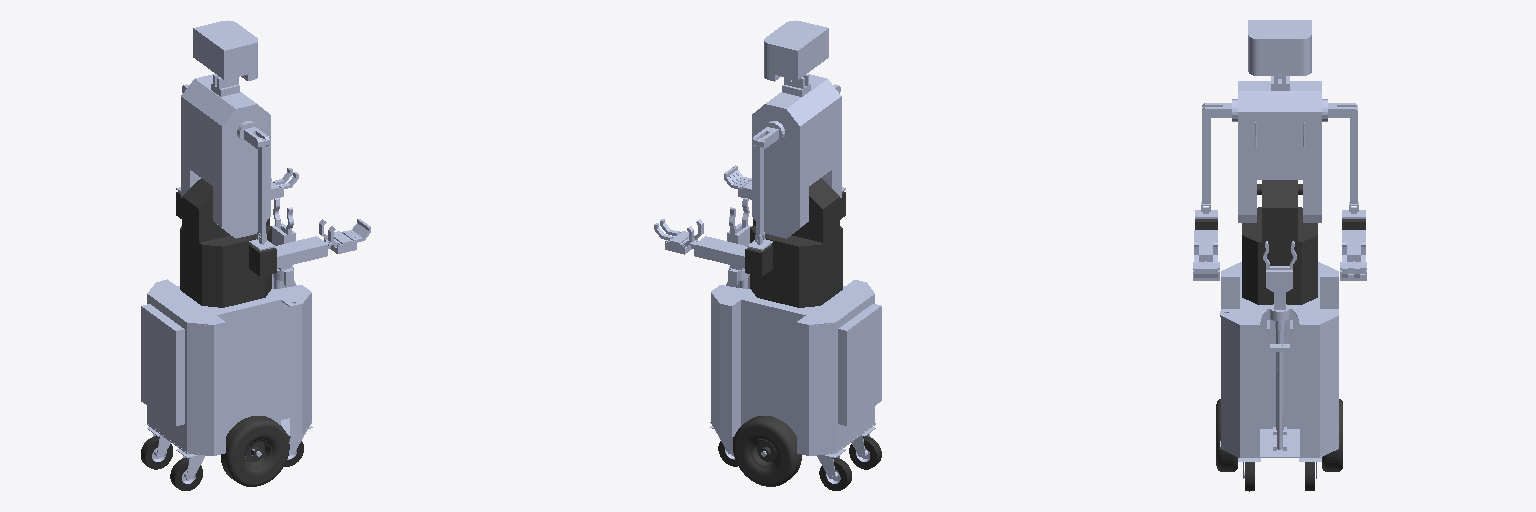
--- Facts derived from the render (not from the file) ---
Views: 3 orthographic renders of the robot side by side, from view 1: azimuth 30°, elevation 25°; view 2: azimuth 150°, elevation 25°; view 3: azimuth 270°, elevation 25°.
Model valter with 46 links and 45 joints (30 revolute, 2 prismatic, 13 fixed), rooted at Base, posed every joint at zero.
Links seen in each view (by area): view 1: Base, Trunk, RTorso, RWheel, Head, Torso, support_wheels, LTorso, RForearmRoll, RArm, RForearmYaw; view 2: Base, Trunk, LTorso, LWheel, Head, Torso, support_wheels, RTorso, LForearmRoll, LArm, LForearmYaw; view 3: Base, Trunk, Torso, Head, LTorso, RTorso, ManipulatorLink2, ManipulatorLink4, RArm, LArm, RWheel, LWheel (+3 smaller).
Link boxes in pixels (bbox=[...]): Base: bbox=[141, 274, 312, 479]; Trunk: bbox=[180, 178, 271, 307]; RTorso: bbox=[214, 98, 270, 238]; RWheel: bbox=[221, 416, 289, 486]; Head: bbox=[193, 20, 257, 80]; Torso: bbox=[190, 83, 247, 220]; support_wheels: bbox=[141, 436, 303, 490]; LTorso: bbox=[181, 74, 212, 197]; RForearmRoll: bbox=[275, 236, 327, 268]; RArm: bbox=[256, 138, 266, 242]; RForearmYaw: bbox=[249, 245, 276, 276]; Base: bbox=[710, 277, 881, 479]; Trunk: bbox=[750, 178, 842, 307]; LTorso: bbox=[752, 98, 808, 238]; LWheel: bbox=[733, 416, 801, 486]; Head: bbox=[764, 20, 828, 81]; Torso: bbox=[774, 83, 832, 188]; support_wheels: bbox=[718, 436, 881, 490]; RTorso: bbox=[809, 74, 841, 197]; LForearmRoll: bbox=[694, 236, 747, 268]; LArm: bbox=[755, 138, 765, 242]; LForearmYaw: bbox=[745, 245, 772, 276]; Base: bbox=[1220, 262, 1338, 478]; Trunk: bbox=[1242, 180, 1317, 304]; Torso: bbox=[1255, 81, 1304, 222]; Head: bbox=[1248, 20, 1311, 78]; LTorso: bbox=[1303, 81, 1327, 222]; RTorso: bbox=[1232, 81, 1256, 222]; ManipulatorLink2: bbox=[1267, 305, 1292, 449]; ManipulatorLink4: bbox=[1266, 266, 1292, 309]; RArm: bbox=[1201, 107, 1210, 211]; LArm: bbox=[1349, 107, 1358, 211]; RWheel: bbox=[1216, 399, 1237, 471]; LWheel: bbox=[1322, 399, 1342, 471].
Size in the robot's own frame: 0.7456 by 0.646 by 1.78 metres.
44 mesh visuals loaded from 46 distinct referenced files (44 binary STL); not drawn: 2 (reference not matched to a file when rendering).

The robot description file, URDF, robot "valter":
<robot
  name="valter">
  <link
    name="Base">
    <inertial>
      <origin
        xyz="-0.0831283905237907 -8.99639602360447E-05 0.418094636104011"
        rpy="0 0 0" />
      <mass
        value="50.0" />
      <inertia
        ixx="0.63101889741738"
        ixy="0.000795005642128454"
        ixz="-0.0797256865961889"
        iyy="0.92537319207376"
        iyz="0.000109606779379405"
        izz="0.647741226002251" />
    </inertial>
    <visual>
      <origin
        xyz="0 0 0"
        rpy="0 0 0" />
      <geometry>
        <mesh
          filename="package://valter/meshes/Base.STL" />
      </geometry>
      <material
        name="">
        <color
          rgba="0.796078431372549 0.823529411764706 0.937254901960784 1" />
      </material>
    </visual>
    <collision>
      <origin
        xyz="0 0 0"
        rpy="0 0 0" />
      <geometry>
        <mesh
          filename="package://valter/meshes/Base.STL" />
      </geometry>
    </collision>
  </link>
  <link
    name="RWheel">
    <inertial>
      <origin
        xyz="-5.908901840046E-18 -0.04 2.77555756156289E-17"
        rpy="0 0 0" />
      <mass
        value="3.62031355964479" />
      <inertia
        ixx="0.020659903156417"
        ixy="1.44560289664734E-19"
        ixz="7.4987989133092E-37"
        iyy="0.0378846933725851"
        iyz="-4.56881253081795E-35"
        izz="0.020659903156417" />
    </inertial>
    <visual>
      <origin
        xyz="0 0 0"
        rpy="0 0 0" />
      <geometry>
        <mesh
          filename="package://valter/meshes/RWheel.STL" />
      </geometry>
      <material
        name="">
        <color
          rgba="0.294117647058824 0.294117647058824 0.294117647058824 1" />
      </material>
    </visual>
    <collision>
      <origin
        xyz="0 0 0"
        rpy="0 0 0" />
      <geometry>
        <mesh
          filename="package://valter/meshes/RWheel.STL" />
      </geometry>
    </collision>
  </link>
  <joint
    name="RWheelJoint"
    type="fixed">
    <origin
      xyz="0.000341577688738742 -0.153675665570238 0.14"
      rpy="-6.12303176911189E-17 0 0" />
    <parent
      link="Base" />
    <child
      link="RWheel" />
    <axis
      xyz="0 1 0" />
  </joint>
  <link
    name="rwheel_centers">
    <inertial>
      <origin
        xyz="-8.13151629364128E-19 0.032994484499226 0"
        rpy="0 0 0" />
      <mass
        value="0.0783773140784392" />
      <inertia
        ixx="5.85727895452634E-05"
        ixy="-9.79373587283321E-22"
        ixz="6.74972677106586E-22"
        iyy="7.03620982427163E-05"
        iyz="5.91608801681983E-21"
        izz="5.85727895452634E-05" />
    </inertial>
    <visual>
      <origin
        xyz="0 0 0"
        rpy="0 0 0" />
      <geometry>
        <mesh
          filename="package://valter/meshes/rwheel_centers.STL" />
      </geometry>
      <material
        name="">
        <color
          rgba="0.796078431372549 0.823529411764706 0.937254901960784 1" />
      </material>
    </visual>
    <collision>
      <origin
        xyz="0 0 0"
        rpy="0 0 0" />
      <geometry>
        <mesh
          filename="package://valter/meshes/rwheel_centers.STL" />
      </geometry>
    </collision>
  </link>
  <joint
    name="rwheel_centers_fixed"
    type="fixed">
    <origin
      xyz="0 -0.00181724367610836 0"
      rpy="3.14159265358979 0 0" />
    <parent
      link="RWheel" />
    <child
      link="rwheel_centers" />
    <axis
      xyz="0 0 0" />
  </joint>
  <link
    name="LWheel">
    <inertial>
      <origin
        xyz="-2.77555756156289E-17 -0.04 2.77555756156289E-17"
        rpy="0 0 0" />
      <mass
        value="3.62031355964479" />
      <inertia
        ixx="0.020659903156417"
        ixy="-3.72702116811453E-19"
        ixz="-4.33680868994202E-19"
        iyy="0.0378846933725851"
        iyz="-7.63027965878358E-20"
        izz="0.020659903156417" />
    </inertial>
    <visual>
      <origin
        xyz="0 0 0"
        rpy="0 0 0" />
      <geometry>
        <mesh
          filename="package://valter/meshes/LWheel.STL" />
      </geometry>
      <material
        name="">
        <color
          rgba="0.294117647058824 0.294117647058824 0.294117647058824 1" />
      </material>
    </visual>
    <collision>
      <origin
        xyz="0 0 0"
        rpy="0 0 0" />
      <geometry>
        <mesh
          filename="package://valter/meshes/LWheel.STL" />
      </geometry>
    </collision>
  </link>
  <joint
    name="LWheelJoint"
    type="fixed">
    <origin
      xyz="0.000341577688738742 0.154324334429763 0.14"
      rpy="6.6286088844449E-17 0.39309481042652 -3.14159265358979" />
    <parent
      link="Base" />
    <child
      link="LWheel" />
    <axis
      xyz="0 -1 0" />
  </joint>
  <link
    name="lwheel_centers">
    <inertial>
      <origin
        xyz="-6.93889390390723E-18 -0.032994484499226 -2.77555756156289E-17"
        rpy="0 0 0" />
      <mass
        value="0.0783773140784395" />
      <inertia
        ixx="5.85727895452638E-05"
        ixy="9.54148206615152E-21"
        ixz="5.0821976835258E-21"
        iyy="7.03620982427167E-05"
        iyz="1.01053730361333E-20"
        izz="5.85727895452638E-05" />
    </inertial>
    <visual>
      <origin
        xyz="0 0 0"
        rpy="0 0 0" />
      <geometry>
        <mesh
          filename="package://valter/meshes/lwheel_centers.STL" />
      </geometry>
      <material
        name="">
        <color
          rgba="0.796078431372549 0.823529411764706 0.937254901960784 1" />
      </material>
    </visual>
    <collision>
      <origin
        xyz="0 0 0"
        rpy="0 0 0" />
      <geometry>
        <mesh
          filename="package://valter/meshes/lwheel_centers.STL" />
      </geometry>
    </collision>
  </link>
  <joint
    name="lwheel_centers_fixed"
    type="fixed">
    <origin
      xyz="0 -0.00181724367610836 0"
      rpy="0 -1.66371525153719E-34 0" />
    <parent
      link="LWheel" />
    <child
      link="lwheel_centers" />
    <axis
      xyz="0 0 0" />
  </joint>
  <link
    name="support_wheels">
    <inertial>
      <origin
        xyz="-0.219066879644595 -1.38777878078145E-17 -0.111817164878115"
        rpy="0 0 0" />
      <mass
        value="1.30791131979034" />
      <inertia
        ixx="0.0180362608696526"
        ixy="-2.31948761326081E-18"
        ixz="-1.73472347597681E-18"
        iyy="0.0808033145464291"
        iyz="-1.69131995088506E-19"
        izz="0.0658583097429299" />
    </inertial>
    <visual>
      <origin
        xyz="0 0 0"
        rpy="0 0 0" />
      <geometry>
        <mesh
          filename="package://valter/meshes/support_wheels.STL" />
      </geometry>
      <material
        name="">
        <color
          rgba="0.250980392156863 0.250980392156863 0.250980392156863 1" />
      </material>
    </visual>
    <collision>
      <origin
        xyz="0 0 0"
        rpy="0 0 0" />
      <geometry>
        <mesh
          filename="package://valter/meshes/support_wheels.STL" />
      </geometry>
    </collision>
  </link>
  <joint
    name="support_wheels_fixed"
    type="fixed">
    <origin
      xyz="0.189234607270609 -0.11129709785824 0.0679256801186866"
      rpy="1.5707963267949 0 0" />
    <parent
      link="Base" />
    <child
      link="support_wheels" />
    <axis
      xyz="0 0 0" />
  </joint>
  <link
    name="support_wheels_centers">
    <inertial>
      <origin
        xyz="-0.219066879644595 -2.77555756156289E-17 0.110556114336065"
        rpy="0 0 0" />
      <mass
        value="0.101015328916835" />
      <inertia
        ixx="0.00129045558161767"
        ixy="-3.57206423378616E-19"
        ixz="-4.87890977618477E-19"
        iyy="0.00613821129438006"
        iyz="-9.32123320537486E-20"
        izz="0.00487802902064206" />
    </inertial>
    <visual>
      <origin
        xyz="0 0 0"
        rpy="0 0 0" />
      <geometry>
        <mesh
          filename="package://valter/meshes/support_wheels_centers.STL" />
      </geometry>
      <material
        name="">
        <color
          rgba="0.796078431372549 0.823529411764706 0.937254901960784 1" />
      </material>
    </visual>
    <collision>
      <origin
        xyz="0 0 0"
        rpy="0 0 0" />
      <geometry>
        <mesh
          filename="package://valter/meshes/support_wheels_centers.STL" />
      </geometry>
    </collision>
  </link>
  <joint
    name="support_wheels_centers_fixed"
    type="fixed">
    <origin
      xyz="0 0 -0.222438597166117"
      rpy="0 0 0" />
    <parent
      link="support_wheels" />
    <child
      link="support_wheels_centers" />
    <axis
      xyz="0 0 0" />
  </joint>
  <link
    name="ManipulatorBase">
    <inertial>
      <origin
        xyz="0.0757274431880703 -0.00904190076144362 -0.035"
        rpy="0 0 0" />
      <mass
        value="0.178834143520891" />
      <inertia
        ixx="0.000174752266227878"
        ixy="3.10938477218533E-21"
        ixz="-2.30189996267457E-20"
        iyy="0.000407098672925193"
        iyz="3.53103137965607E-21"
        izz="0.000259421347673262" />
    </inertial>
    <visual>
      <origin
        xyz="0 0 0"
        rpy="0 0 0" />
      <geometry>
        <mesh
          filename="package://valter/meshes/ManipulatorBase.STL" />
      </geometry>
      <material
        name="">
        <color
          rgba="0.796078431372549 0.823529411764706 0.937254901960784 1" />
      </material>
    </visual>
    <collision>
      <origin
        xyz="0 0 0"
        rpy="0 0 0" />
      <geometry>
        <mesh
          filename="package://valter/meshes/ManipulatorBase.STL" />
      </geometry>
    </collision>
  </link>
  <joint
    name="ManipulatorBaseFixed"
    type="fixed">
    <origin
      xyz="0.15727 0.035461 0.70704"
      rpy="1.5708 0 3.1416" />
    <parent
      link="Base" />
    <child
      link="ManipulatorBase" />
    <axis
      xyz="0 0 0" />
  </joint>
  <link
    name="ManipulatorLink1">
    <inertial>
      <origin
        xyz="0.00842708530014899 -0.298874962931971 0.0349954696862612"
        rpy="0 0 0" />
      <mass
        value="0.478012742893284" />
      <inertia
        ixx="0.0134357023569837"
        ixy="-0.00089216385063622"
        ixz="-1.64451506307396E-10"
        iyy="0.000408600161913005"
        iyz="5.75075282237831E-09"
        izz="0.0137310509899334" />
    </inertial>
    <visual>
      <origin
        xyz="0 0 0"
        rpy="0 0 0" />
      <geometry>
        <mesh
          filename="package://valter/meshes/ManipulatorLink1.STL" />
      </geometry>
      <material
        name="">
        <color
          rgba="0.792156862745098 0.819607843137255 0.933333333333333 1" />
      </material>
    </visual>
    <collision>
      <origin
        xyz="0 0 0"
        rpy="0 0 0" />
      <geometry>
        <mesh
          filename="package://valter/meshes/ManipulatorLink1.STL" />
      </geometry>
    </collision>
  </link>
  <joint
    name="ManipulatorLink1Joint"
    type="revolute">
    <origin
      xyz="0.015824 -0.0090419 0"
      rpy="3.1416 0 3.1416" />
    <parent
      link="ManipulatorBase" />
    <child
      link="ManipulatorLink1" />
    <axis
      xyz="0 0 -1" />
    <limit
      lower="-1.5"
      upper="0"
      effort="0"
      velocity="0" />
  </joint>
  <link
    name="ManipulatorLink2">
    <inertial>
      <origin
        xyz="-0.00196480942981017 0.348379096758467 0.0349954207736472"
        rpy="0 0 0" />
      <mass
        value="0.304515245459477" />
      <inertia
        ixx="0.00777034817250903"
        ixy="-0.000109646222750572"
        ixz="-4.79308609658045E-12"
        iyy="0.000301003154376517"
        iyz="2.80929115257025E-10"
        izz="0.00753395528428255" />
    </inertial>
    <visual>
      <origin
        xyz="0 0 0"
        rpy="0 0 0" />
      <geometry>
        <mesh
          filename="package://valter/meshes/ManipulatorLink2.STL" />
      </geometry>
      <material
        name="">
        <color
          rgba="0.792156862745098 0.819607843137255 0.933333333333333 1" />
      </material>
    </visual>
    <collision>
      <origin
        xyz="0 0 0"
        rpy="0 0 0" />
      <geometry>
        <mesh
          filename="package://valter/meshes/ManipulatorLink2.STL" />
      </geometry>
    </collision>
  </link>
  <joint
    name="ManipulatorLink2Joint"
    type="revolute">
    <origin
      xyz="0.10656 -0.49054 0"
      rpy="0 0 0" />
    <parent
      link="ManipulatorLink1" />
    <child
      link="ManipulatorLink2" />
    <axis
      xyz="0 0 -1" />
    <limit
      lower="0"
      upper="1.5"
      effort="0"
      velocity="0" />
  </joint>
  <link
    name="ManipulatorLink3">
    <inertial>
      <origin
        xyz="-0.0046525999175398 -0.0219448226910157 0.0349954293087308"
        rpy="0 0 0" />
      <mass
        value="0.227882111375496" />
      <inertia
        ixx="0.000197016969488881"
        ixy="4.03477911259816E-05"
        ixz="-2.47517782084006E-12"
        iyy="0.000153281907899611"
        iyz="3.05482637122469E-12"
        izz="0.000213692740260064" />
    </inertial>
    <visual>
      <origin
        xyz="0 0 0"
        rpy="0 0 0" />
      <geometry>
        <mesh
          filename="package://valter/meshes/ManipulatorLink3.STL" />
      </geometry>
      <material
        name="">
        <color
          rgba="0.792156862745098 0.819607843137255 0.933333333333333 1" />
      </material>
    </visual>
    <collision>
      <origin
        xyz="0 0 0"
        rpy="0 0 0" />
      <geometry>
        <mesh
          filename="package://valter/meshes/ManipulatorLink3.STL" />
      </geometry>
    </collision>
  </link>
  <joint
    name="ManipulatorLink3Joint"
    type="revolute">
    <origin
      xyz="-0.012962 0.55415 0"
      rpy="0 0 0" />
    <parent
      link="ManipulatorLink2" />
    <child
      link="ManipulatorLink3" />
    <axis
      xyz="0 0 -1" />
    <limit
      lower="0"
      upper="1"
      effort="0"
      velocity="0" />
  </joint>
  <link
    name="ManipulatorLink4">
    <inertial>
      <origin
        xyz="-2.27324754187949E-05 0.0839540654377264 0"
        rpy="0 0 0" />
      <mass
        value="0.42934890554545" />
      <inertia
        ixx="0.000935940058808039"
        ixy="4.26089557359053E-07"
        ixz="7.47764376006503E-21"
        iyy="0.000339182318745931"
        iyz="1.65064699619049E-19"
        izz="0.00105088366308352" />
    </inertial>
    <visual>
      <origin
        xyz="0 0 0"
        rpy="0 0 0" />
      <geometry>
        <mesh
          filename="package://valter/meshes/ManipulatorLink4.STL" />
      </geometry>
      <material
        name="">
        <color
          rgba="0.796078431372549 0.823529411764706 0.937254901960784 1" />
      </material>
    </visual>
    <collision>
      <origin
        xyz="0 0 0"
        rpy="0 0 0" />
      <geometry>
        <mesh
          filename="package://valter/meshes/ManipulatorLink4.STL" />
      </geometry>
    </collision>
  </link>
  <joint
    name="ManipulatorLink4Joint"
    type="revolute">
    <origin
      xyz="0 0.008 0.034995"
      rpy="0 1.5708 0" />
    <parent
      link="ManipulatorLink3" />
    <child
      link="ManipulatorLink4" />
    <axis
      xyz="0 -1 0" />
    <limit
      lower="-3"
      upper="3"
      effort="0"
      velocity="0" />
  </joint>
  <link
    name="GripperL">
    <inertial>
      <origin
        xyz="0.00297778710330867 0.0871448028863351 -0.00986508075006032"
        rpy="0 0 0" />
      <mass
        value="0.0398581317877607" />
      <inertia
        ixx="0.000101786832064384"
        ixy="-4.73556735923986E-06"
        ixz="-2.16269325497472E-22"
        iyy="2.32711481887779E-06"
        iyz="1.14850927404621E-21"
        izz="0.000101715815954032" />
    </inertial>
    <visual>
      <origin
        xyz="0 0 0"
        rpy="0 0 0" />
      <geometry>
        <mesh
          filename="package://valter/meshes/GripperL.STL" />
      </geometry>
      <material
        name="">
        <color
          rgba="0.796078431372549 0.823529411764706 0.937254901960784 1" />
      </material>
    </visual>
    <collision>
      <origin
        xyz="0 0 0"
        rpy="0 0 0" />
      <geometry>
        <mesh
          filename="package://valter/meshes/GripperL.STL" />
      </geometry>
    </collision>
  </link>
  <joint
    name="GripperLJoint"
    type="prismatic">
    <origin
      xyz="0.049892 0.090686 -0.0096825"
      rpy="3.1416 -6.9389E-17 -3.1416" />
    <parent
      link="ManipulatorLink4" />
    <child
      link="GripperL" />
    <axis
      xyz="-1 0 0" />
    <limit
      lower="-0.03"
      upper="0"
      effort="0"
      velocity="0" />
  </joint>
  <link
    name="GripperR">
    <inertial>
      <origin
        xyz="0.00297778710330867 0.0871448028863351 0.00986508075006029"
        rpy="0 0 0" />
      <mass
        value="0.0398581317877607" />
      <inertia
        ixx="0.000101786832064384"
        ixy="-4.73556735923985E-06"
        ixz="2.14379316231562E-23"
        iyy="2.32711481887779E-06"
        iyz="-1.45989050367712E-21"
        izz="0.000101715815954032" />
    </inertial>
    <visual>
      <origin
        xyz="0 0 0"
        rpy="0 0 0" />
      <geometry>
        <mesh
          filename="package://valter/meshes/GripperR.STL" />
      </geometry>
      <material
        name="">
        <color
          rgba="0.796078431372549 0.823529411764706 0.937254901960784 1" />
      </material>
    </visual>
    <collision>
      <origin
        xyz="0 0 0"
        rpy="0 0 0" />
      <geometry>
        <mesh
          filename="package://valter/meshes/GripperR.STL" />
      </geometry>
    </collision>
  </link>
  <joint
    name="GripperRJoint"
    type="prismatic">
    <origin
      xyz="-0.049892 0.090686 -0.0096825"
      rpy="-4.9087E-21 6.9389E-17 1.0613E-16" />
    <parent
      link="ManipulatorLink4" />
    <child
      link="GripperR" />
    <axis
      xyz="1 0 0" />
    <limit
      lower="0"
      upper="0.03"
      effort="0"
      velocity="0" />
  </joint>
  <link
    name="Trunk">
    <inertial>
      <origin
        xyz="1.9082E-17 0.23891 1.3227E-17"
        rpy="0 0 0" />
      <mass
        value="27.438" />
      <inertia
        ixx="0.53579"
        ixy="-9.7948E-18"
        ixz="-1.7984E-17"
        iyy="0.31051"
        iyz="9.2013E-18"
        izz="0.59879" />
    </inertial>
    <visual>
      <origin
        xyz="0 0 0"
        rpy="0 0 0" />
      <geometry>
        <mesh
          filename="package://valter/meshes/Trunk.STL" />
      </geometry>
      <material
        name="">
        <color
          rgba="0.3 0.3 0.3 1" />
      </material>
    </visual>
    <collision>
      <origin
        xyz="0 0 0"
        rpy="0 0 0" />
      <geometry>
        <mesh
          filename="package://valter/meshes/Trunk.STL" />
      </geometry>
    </collision>
  </link>
  <joint
    name="TrunkJoint"
    type="revolute">
    <origin
      xyz="-0.01423 0.00097293 0.686"
      rpy="1.5708 0 0" />
    <parent
      link="Base" />
    <child
      link="Trunk" />
    <axis
      xyz="0 -1 0" />
    <limit
      lower="-1.5"
      upper="1.5"
      effort="0"
      velocity="0" />
  </joint>
  <link
    name="Torso">
    <inertial>
      <origin
        xyz="-5.96337908854803E-05 0.239039736167763 6.11490025281825E-17"
        rpy="0 0 0" />
      <mass
        value="12.3493829426964" />
      <inertia
        ixx="0.15897366060386"
        ixy="7.65084055002173E-07"
        ixz="-8.58200089376519E-18"
        iyy="0.0778382030536952"
        iyz="1.53719102033197E-17"
        izz="0.167042668806572" />
    </inertial>
    <visual>
      <origin
        xyz="0 0 0"
        rpy="0 0 0" />
      <geometry>
        <mesh
          filename="package://valter/meshes/Torso.STL" />
      </geometry>
      <material
        name="">
        <color
          rgba="0.796078431372549 0.823529411764706 0.937254901960784 1" />
      </material>
    </visual>
    <collision>
      <origin
        xyz="0 0 0"
        rpy="0 0 0" />
      <geometry>
        <mesh
          filename="package://valter/meshes/Torso.STL" />
      </geometry>
    </collision>
  </link>
  <joint
    name="TorsoJoint"
    type="revolute">
    <origin
      xyz="0 0.45 0"
      rpy="0 0 0" />
    <parent
      link="Trunk" />
    <child
      link="Torso" />
    <axis
      xyz="0 0 -1" />
    <limit
      lower="0"
      upper="1"
      effort="0"
      velocity="0" />
  </joint>
  <link
    name="Neck">
    <inertial>
      <origin
        xyz="-2.54485853576885E-05 0.0271590293807542 3.30681662608079E-17"
        rpy="0 0 0" />
      <mass
        value="0.264426936484469" />
      <inertia
        ixx="0.000196321181926634"
        ixy="-1.53703548617312E-07"
        ixz="-1.66950531439128E-20"
        iyy="0.000255700323088497"
        iyz="6.78826048678108E-20"
        izz="0.000261741840412162" />
    </inertial>
    <visual>
      <origin
        xyz="0 0 0"
        rpy="0 0 0" />
      <geometry>
        <mesh
          filename="package://valter/meshes/Neck.STL" />
      </geometry>
      <material
        name="">
        <color
          rgba="0.792156862745098 0.819607843137255 0.933333333333333 1" />
      </material>
    </visual>
    <collision>
      <origin
        xyz="0 0 0"
        rpy="0 0 0" />
      <geometry>
        <mesh
          filename="package://valter/meshes/Neck.STL" />
      </geometry>
    </collision>
  </link>
  <joint
    name="NeckJoint"
    type="revolute">
    <origin
      xyz="-0.00017682 0.42056 0"
      rpy="0 0 0" />
    <parent
      link="Torso" />
    <child
      link="Neck" />
    <axis
      xyz="0 -1 0" />
    <limit
      lower="-1.57"
      upper="1.57"
      effort="0"
      velocity="0" />
  </joint>
  <link
    name="Head">
    <inertial>
      <origin
        xyz="0.00279372413046049 0.114190295410849 1.01047642475649E-16"
        rpy="0 0 0" />
      <mass
        value="5.04298545454377" />
      <inertia
        ixx="0.0302760164879703"
        ixy="-0.00143147694204146"
        ixz="-2.37109041052788E-18"
        iyy="0.0332278761873306"
        iyz="-2.81858474691739E-18"
        izz="0.0193071888170094" />
    </inertial>
    <visual>
      <origin
        xyz="0 0 0"
        rpy="0 0 0" />
      <geometry>
        <mesh
          filename="package://valter/meshes/Head.STL" />
      </geometry>
      <material
        name="">
        <color
          rgba="0.792156862745098 0.819607843137255 0.933333333333333 1" />
      </material>
    </visual>
    <collision>
      <origin
        xyz="0 0 0"
        rpy="0 0 0" />
      <geometry>
        <mesh
          filename="package://valter/meshes/Head.STL" />
      </geometry>
    </collision>
  </link>
  <joint
    name="HeadJoint"
    type="revolute">
    <origin
      xyz="0.0085 0.05 0"
      rpy="0 0 0" />
    <parent
      link="Neck" />
    <child
      link="Head" />
    <axis
      xyz="0 0 -1" />
    <limit
      lower="0"
      upper="0.85"
      effort="0"
      velocity="0" />
  </joint>
  <link
    name="LTorso">
    <inertial>
      <origin
        xyz="0.108478345413569 0.154168360329165 0.0336168458210233"
        rpy="0 0 0" />
      <mass
        value="7.0955682087774" />
      <inertia
        ixx="0.156492905049855"
        ixy="-4.26349291669547E-05"
        ixz="6.98446874820989E-06"
        iyy="0.0267552134369736"
        iyz="0.000725408696917087"
        izz="0.17778025466118" />
    </inertial>
    <visual>
      <origin
        xyz="0 0 0"
        rpy="0 0 0" />
      <geometry>
        <mesh
          filename="package://valter/meshes/LTorso.STL" />
      </geometry>
      <material
        name="">
        <color
          rgba="0.796078431372549 0.823529411764706 0.937254901960784 1" />
      </material>
    </visual>
    <collision>
      <origin
        xyz="0 0 0"
        rpy="0 0 0" />
      <geometry>
        <mesh
          filename="package://valter/meshes/LTorso.STL" />
      </geometry>
    </collision>
  </link>
  <joint
    name="LTorsoJoint"
    type="revolute">
    <origin
      xyz="0.10841 0 -0.09"
      rpy="3.1416 0 -3.1416" />
    <parent
      link="Torso" />
    <child
      link="LTorso" />
    <axis
      xyz="0 -1 0" />
    <limit
      lower="0"
      upper="0.925"
      effort="0"
      velocity="0" />
  </joint>
  <link
    name="LShoulder">
    <inertial>
      <origin
        xyz="2.22044604925031E-16 0.0630498866526663 -5.20417042793042E-18"
        rpy="0 0 0" />
      <mass
        value="0.175328671502516" />
      <inertia
        ixx="0.00024755425271954"
        ixy="-1.63165782943239E-20"
        ixz="4.17115943052412E-20"
        iyy="6.56937608813347E-05"
        iyz="-2.54354849648763E-20"
        izz="0.00022589138848891" />
    </inertial>
    <visual>
      <origin
        xyz="0 0 0"
        rpy="0 0 0" />
      <geometry>
        <mesh
          filename="package://valter/meshes/LShoulder.STL" />
      </geometry>
      <material
        name="">
        <color
          rgba="0.792156862745098 0.819607843137255 0.933333333333333 1" />
      </material>
    </visual>
    <collision>
      <origin
        xyz="0 0 0"
        rpy="0 0 0" />
      <geometry>
        <mesh
          filename="package://valter/meshes/LShoulder.STL" />
      </geometry>
    </collision>
  </link>
  <joint
    name="LShoulderJoint"
    type="revolute">
    <origin
      xyz="0.1085 0.31956 0.067"
      rpy="1.5708 0 1.5708" />
    <parent
      link="LTorso" />
    <child
      link="LShoulder" />
    <axis
      xyz="0 -1 0" />
    <limit
      lower="-0.5"
      upper="1.5"
      effort="0"
      velocity="0" />
  </joint>
  <link
    name="LArm">
    <inertial>
      <origin
        xyz="-2.22044604925031E-16 -0.193246670700552 2.61943244872498E-16"
        rpy="0 0 0" />
      <mass
        value="0.244790015736888" />
      <inertia
        ixx="0.00347202868354709"
        ixy="4.47603684624087E-18"
        ixz="1.55953448379727E-21"
        iyy="3.01861230030171E-05"
        iyz="-4.69150709266768E-18"
        izz="0.00348781472034764" />
    </inertial>
    <visual>
      <origin
        xyz="0 0 0"
        rpy="0 0 0" />
      <geometry>
        <mesh
          filename="package://valter/meshes/LArm.STL" />
      </geometry>
      <material
        name="">
        <color
          rgba="0.792156862745098 0.819607843137255 0.933333333333333 1" />
      </material>
    </visual>
    <collision>
      <origin
        xyz="0 0 0"
        rpy="0 0 0" />
      <geometry>
        <mesh
          filename="package://valter/meshes/LArm.STL" />
      </geometry>
    </collision>
  </link>
  <joint
    name="LArmJoint"
    type="revolute">
    <origin
      xyz="0 0.116 0"
      rpy="-3.1416 0 1.5708" />
    <parent
      link="LShoulder" />
    <child
      link="LArm" />
    <axis
      xyz="0 0 1" />
    <limit
      lower="0"
      upper="1.5"
      effort="0"
      velocity="0" />
  </joint>
  <link
    name="LArmElbow">
    <inertial>
      <origin
        xyz="-0.0211862096312088 -2.60208521396521E-17 4.9960036108132E-16"
        rpy="0 0 0" />
      <mass
        value="0.0397123450849927" />
      <inertia
        ixx="3.18965617916285E-05"
        ixy="2.53868987017113E-21"
        ixz="7.07375802938059E-23"
        iyy="2.18422007810781E-05"
        iyz="4.52683780196601E-21"
        izz="1.34391771581529E-05" />
    </inertial>
    <visual>
      <origin
        xyz="0 0 0"
        rpy="0 0 0" />
      <geometry>
        <mesh
          filename="package://valter/meshes/LArmElbow.STL" />
      </geometry>
      <material
        name="">
        <color
          rgba="0.796078431372549 0.823529411764706 0.937254901960784 1" />
      </material>
    </visual>
    <collision>
      <origin
        xyz="0 0 0"
        rpy="0 0 0" />
      <geometry>
        <mesh
          filename="package://valter/meshes/LArmElbow.STL" />
      </geometry>
    </collision>
  </link>
  <joint
    name="LArmElbowJoint"
    type="revolute">
    <origin
      xyz="0 -0.39975 0"
      rpy="-1.5708 0 1.5708" />
    <parent
      link="LArm" />
    <child
      link="LArmElbow" />
    <axis
      xyz="0 0 1" />
    <limit
      lower="-0.9"
      upper="0.9"
      effort="0"
      velocity="0" />
  </joint>
  <link
    name="LForearmYaw">
    <inertial>
      <origin
        xyz="0 -0.04907 0.00379"
        rpy="0 0 0" />
      <mass
        value="0.60265" />
      <inertia
        ixx="0.0007473"
        ixy="2.6052E-20"
        ixz="1.2796E-19"
        iyy="0.00062925"
        iyz="-9.4851E-07"
        izz="0.00084031" />
    </inertial>
    <visual>
      <origin
        xyz="0 0 0"
        rpy="0 0 0" />
      <geometry>
        <mesh
          filename="package://valter/meshes/LForearmYaw.STL" />
      </geometry>
      <material
        name="">
        <color
          rgba="0.3 0.3 0.3 1" />
      </material>
    </visual>
    <collision>
      <origin
        xyz="0 0 0"
        rpy="0 0 0" />
      <geometry>
        <mesh
          filename="package://valter/meshes/LForearmYaw.STL" />
      </geometry>
    </collision>
  </link>
  <joint
    name="LForearmYawJoint"
    type="fixed">
    <origin
      xyz="-0.036 0 0"
      rpy="1.5708 1.5708 0" />
    <parent
      link="LArmElbow" />
    <child
      link="LForearmYaw" />
    <axis
      xyz="0 -1 0" />
  </joint>
  <link
    name="LForearmRoll">
    <inertial>
      <origin
        xyz="-0.111710352281004 -0.000515769839272595 5.55111512312578E-17"
        rpy="0 0 0" />
      <mass
        value="0.93501476271025" />
      <inertia
        ixx="0.000763936847833718"
        ixy="1.34977861347765E-06"
        ixz="-1.62040826862028E-19"
        iyy="0.00442640411973123"
        iyz="-1.03620339942239E-20"
        izz="0.00403695569885687" />
    </inertial>
    <visual>
      <origin
        xyz="0 0 0"
        rpy="0 0 0" />
      <geometry>
        <mesh
          filename="package://valter/meshes/LForearmRoll.STL" />
      </geometry>
      <material
        name="">
        <color
          rgba="0.792156862745098 0.819607843137255 0.933333333333333 1" />
      </material>
    </visual>
    <collision>
      <origin
        xyz="0 0 0"
        rpy="0 0 0" />
      <geometry>
        <mesh
          filename="package://valter/meshes/LForearmRoll.STL" />
      </geometry>
    </collision>
  </link>
  <joint
    name="LForearmRollJoint"
    type="revolute">
    <origin
      xyz="0 -0.055 0.0395"
      rpy="0 1.5708 0" />
    <parent
      link="LForearmYaw" />
    <child
      link="LForearmRoll" />
    <axis
      xyz="1 0 0" />
    <limit
      lower="-3.7"
      upper="0"
      effort="0"
      velocity="0" />
  </joint>
  <link
    name="LHandPitch">
    <inertial>
      <origin
        xyz="-1.32032809794236E-05 -0.00026825864092217 -0.010071754197082"
        rpy="0 0 0" />
      <mass
        value="0.0061941814843542" />
      <inertia
        ixx="4.4190403444526E-07"
        ixy="-1.49325589877469E-12"
        ixz="4.62856822491242E-10"
        iyy="7.29536858804216E-07"
        iyz="-1.1390885637953E-09"
        izz="4.58624175583739E-07" />
    </inertial>
    <visual>
      <origin
        xyz="0 0 0"
        rpy="0 0 0" />
      <geometry>
        <mesh
          filename="package://valter/meshes/LHandPitch.STL" />
      </geometry>
      <material
        name="">
        <color
          rgba="0.796078431372549 0.823529411764706 0.937254901960784 1" />
      </material>
    </visual>
    <collision>
      <origin
        xyz="0 0 0"
        rpy="0 0 0" />
      <geometry>
        <mesh
          filename="package://valter/meshes/LHandPitch.STL" />
      </geometry>
    </collision>
  </link>
  <joint
    name="LHandPitchJoint"
    type="fixed">
    <origin
      xyz="-0.23422 -0.005 0"
      rpy="0 1.5708 0" />
    <parent
      link="LForearmRoll" />
    <child
      link="LHandPitch" />
    <axis
      xyz="-1 0 0" />
    <limit
      lower="-0.3"
      upper="0.5"
      effort="0"
      velocity="0" />
  </joint>
  <link
    name="LHandYaw">
    <inertial>
      <origin
        xyz="0.0496641940766464 0.00041782761922482 -5.08440733959503E-10"
        rpy="0 0 0" />
      <mass
        value="0.312277803709901" />
      <inertia
        ixx="0.000301787624881494"
        ixy="-4.04907456706471E-06"
        ixz="4.28145467875751E-15"
        iyy="0.000418103664635785"
        iyz="-7.39848484937202E-16"
        izz="0.000203953310852931" />
    </inertial>
    <visual>
      <origin
        xyz="0 0 0"
        rpy="0 0 0" />
      <geometry>
        <mesh
          filename="package://valter/meshes/LHandYaw.STL" />
      </geometry>
      <material
        name="">
        <color
          rgba="0.796078431372549 0.823529411764706 0.937254901960784 1" />
      </material>
    </visual>
    <collision>
      <origin
        xyz="0 0 0"
        rpy="0 0 0" />
      <geometry>
        <mesh
          filename="package://valter/meshes/LHandYaw.STL" />
      </geometry>
    </collision>
  </link>
  <joint
    name="LHandYawJoint"
    type="fixed">
    <origin
      xyz="0.0002314 0 -0.015731"
      rpy="0 1.5708 0" />
    <parent
      link="LHandPitch" />
    <child
      link="LHandYaw" />
    <axis
      xyz="0 -1 0" />
    <limit
      lower="-0.5"
      upper="0.2"
      effort="0"
      velocity="0" />
  </joint>
  <link
    name="LFinger0">
    <inertial>
      <origin
        xyz="0.0387329517739758 0.0115334888203411 0.01"
        rpy="0 0 0" />
      <mass
        value="0.02336143148626" />
      <inertia
        ixx="5.44824973467252E-06"
        ixy="5.88137120352322E-06"
        ixz="-3.11053616405498E-22"
        iyy="1.21122746789668E-05"
        iyz="-4.81625768704879E-22"
        izz="1.60030956478886E-05" />
    </inertial>
    <visual>
      <origin
        xyz="0 0 0"
        rpy="0 0 0" />
      <geometry>
        <mesh
          filename="package://valter/meshes/LFinger0.STL" />
      </geometry>
      <material
        name="">
        <color
          rgba="0.792156862745098 0.819607843137255 0.933333333333333 1" />
      </material>
    </visual>
    <collision>
      <origin
        xyz="0 0 0"
        rpy="0 0 0" />
      <geometry>
        <mesh
          filename="package://valter/meshes/LFinger0.STL" />
      </geometry>
    </collision>
  </link>
  <joint
    name="LFinger0Joint"
    type="revolute">
    <origin
      xyz="0.01463 0.0125 -0.025"
      rpy="3.1416 0 2.3562" />
    <parent
      link="LHandYaw" />
    <child
      link="LFinger0" />
    <axis
      xyz="0 0 1" />
    <limit
      lower="0"
      upper="1"
      effort="0"
      velocity="0" />
  </joint>
  <link
    name="LFinger1">
    <inertial>
      <origin
        xyz="0.0387329517739756 0.0115334888203408 -0.01"
        rpy="0 0 0" />
      <mass
        value="0.02336143148626" />
      <inertia
        ixx="5.44824973467248E-06"
        ixy="5.8813712035232E-06"
        ixz="-2.33401983978783E-22"
        iyy="1.21122746789668E-05"
        iyz="2.68669281789629E-22"
        izz="1.60030956478886E-05" />
    </inertial>
    <visual>
      <origin
        xyz="0 0 0"
        rpy="0 0 0" />
      <geometry>
        <mesh
          filename="package://valter/meshes/LFinger1.STL" />
      </geometry>
      <material
        name="">
        <color
          rgba="0.792156862745098 0.819607843137255 0.933333333333333 1" />
      </material>
    </visual>
    <collision>
      <origin
        xyz="0 0 0"
        rpy="0 0 0" />
      <geometry>
        <mesh
          filename="package://valter/meshes/LFinger1.STL" />
      </geometry>
    </collision>
  </link>
  <joint
    name="LFinger1Joint"
    type="revolute">
    <origin
      xyz="0.08863 0.0135 -0.02375"
      rpy="0 0 0" />
    <parent
      link="LHandYaw" />
    <child
      link="LFinger1" />
    <axis
      xyz="0 0 -1" />
    <limit
      lower="-1"
      upper="0"
      effort="0"
      velocity="0" />
  </joint>
  <link
    name="LFinger2">
    <inertial>
      <origin
        xyz="0.0387329517739756 0.0115334888203408 -0.0100000000000001"
        rpy="0 0 0" />
      <mass
        value="0.02336143148626" />
      <inertia
        ixx="5.44824973467248E-06"
        ixy="5.8813712035232E-06"
        ixz="-2.33401983978783E-22"
        iyy="1.21122746789668E-05"
        iyz="2.68669281789629E-22"
        izz="1.60030956478886E-05" />
    </inertial>
    <visual>
      <origin
        xyz="0 0 0"
        rpy="0 0 0" />
      <geometry>
        <mesh
          filename="package://valter/meshes/LFinger2.STL" />
      </geometry>
      <material
        name="">
        <color
          rgba="0.792156862745098 0.819607843137255 0.933333333333333 1" />
      </material>
    </visual>
    <collision>
      <origin
        xyz="0 0 0"
        rpy="0 0 0" />
      <geometry>
        <mesh
          filename="package://valter/meshes/LFinger2.STL" />
      </geometry>
    </collision>
  </link>
  <joint
    name="LFinger2Joint"
    type="revolute">
    <origin
      xyz="0.08863 0.0135 -0.00125"
      rpy="0 0 0" />
    <parent
      link="LHandYaw" />
    <child
      link="LFinger2" />
    <axis
      xyz="0 0 -1" />
    <limit
      lower="-1"
      upper="0"
      effort="0"
      velocity="0" />
  </joint>
  <link
    name="LFinger3">
    <inertial>
      <origin
        xyz="0.0387329517739756 0.0115334888203408 0.01"
        rpy="0 0 0" />
      <mass
        value="0.02336143148626" />
      <inertia
        ixx="5.44824973467249E-06"
        ixy="5.8813712035232E-06"
        ixz="-2.33401983978783E-22"
        iyy="1.21122746789668E-05"
        iyz="2.68669281789629E-22"
        izz="1.60030956478886E-05" />
    </inertial>
    <visual>
      <origin
        xyz="0 0 0"
        rpy="0 0 0" />
      <geometry>
        <mesh
          filename="package://valter/meshes/LFinger3.STL" />
      </geometry>
      <material
        name="">
        <color
          rgba="0.792156862745098 0.819607843137255 0.933333333333333 1" />
      </material>
    </visual>
    <collision>
      <origin
        xyz="0 0 0"
        rpy="0 0 0" />
      <geometry>
        <mesh
          filename="package://valter/meshes/LFinger3.STL" />
      </geometry>
    </collision>
  </link>
  <joint
    name="LFinger3Joint"
    type="revolute">
    <origin
      xyz="0.08863 0.0135 0.00125"
      rpy="0 0 0" />
    <parent
      link="LHandYaw" />
    <child
      link="LFinger3" />
    <axis
      xyz="0 0 -1" />
    <limit
      lower="-1"
      upper="0"
      effort="0"
      velocity="0" />
  </joint>
  <link
    name="LFinger4">
    <inertial>
      <origin
        xyz="0.0387329517739756 0.0115334888203408 0.00999999999999998"
        rpy="0 0 0" />
      <mass
        value="0.02336143148626" />
      <inertia
        ixx="5.44824973467247E-06"
        ixy="5.88137120352319E-06"
        ixz="-3.81962207677889E-22"
        iyy="1.21122746789668E-05"
        iyz="3.62254269523736E-23"
        izz="1.60030956478886E-05" />
    </inertial>
    <visual>
      <origin
        xyz="0 0 0"
        rpy="0 0 0" />
      <geometry>
        <mesh
          filename="package://valter/meshes/LFinger4.STL" />
      </geometry>
      <material
        name="">
        <color
          rgba="0.792156862745098 0.819607843137255 0.933333333333333 1" />
      </material>
    </visual>
    <collision>
      <origin
        xyz="0 0 0"
        rpy="0 0 0" />
      <geometry>
        <mesh
          filename="package://valter/meshes/LFinger4.STL" />
      </geometry>
    </collision>
  </link>
  <joint
    name="LFinger4Joint"
    type="revolute">
    <origin
      xyz="0.08863 0.0135 0.02375"
      rpy="0 0 0" />
    <parent
      link="LHandYaw" />
    <child
      link="LFinger4" />
    <axis
      xyz="0 0 -1" />
    <limit
      lower="-1"
      upper="0"
      effort="0"
      velocity="0" />
  </joint>
  <link
    name="LFinger5">
    <inertial>
      <origin
        xyz="0.0387329517739756 0.0115334888203409 -0.01"
        rpy="0 0 0" />
      <mass
        value="0.02336143148626" />
      <inertia
        ixx="5.44824973467255E-06"
        ixy="5.88137120352326E-06"
        ixz="-1.82480470419128E-21"
        iyy="1.21122746789668E-05"
        iyz="-1.00241504630637E-21"
        izz="1.60030956478887E-05" />
    </inertial>
    <visual>
      <origin
        xyz="0 0 0"
        rpy="0 0 0" />
      <geometry>
        <mesh
          filename="package://valter/meshes/LFinger5.STL" />
      </geometry>
      <material
        name="">
        <color
          rgba="0.792156862745098 0.819607843137255 0.933333333333333 1" />
      </material>
    </visual>
    <collision>
      <origin
        xyz="0 0 0"
        rpy="0 0 0" />
      <geometry>
        <mesh
          filename="package://valter/meshes/LFinger5.STL" />
      </geometry>
    </collision>
  </link>
  <joint
    name="LFinger5Joint"
    type="revolute">
    <origin
      xyz="0.01463 0.0125 0.025"
      rpy="3.1416 0 2.3562" />
    <parent
      link="LHandYaw" />
    <child
      link="LFinger5" />
    <axis
      xyz="0 0 1" />
    <limit
      lower="0"
      upper="1"
      effort="0"
      velocity="0" />
  </joint>
  <link
    name="RTorso">
    <inertial>
      <origin
        xyz="0.108478345413569 0.154168360329165 -0.0336168458210233"
        rpy="0 0 0" />
      <mass
        value="7.0955682087774" />
      <inertia
        ixx="0.156492905049855"
        ixy="-4.26349291668109E-05"
        ixz="-6.98446874821223E-06"
        iyy="0.0267552134369736"
        iyz="-0.00072540869691709"
        izz="0.17778025466118" />
    </inertial>
    <visual>
      <origin
        xyz="0 0 0"
        rpy="0 0 0" />
      <geometry>
        <mesh
          filename="package://valter/meshes/RTorso.STL" />
      </geometry>
      <material
        name="">
        <color
          rgba="0.796078431372549 0.823529411764706 0.937254901960784 1" />
      </material>
    </visual>
    <collision>
      <origin
        xyz="0 0 0"
        rpy="0 0 0" />
      <geometry>
        <mesh
          filename="package://valter/meshes/RTorso.STL" />
      </geometry>
    </collision>
  </link>
  <joint
    name="RTorsoJoint"
    type="revolute">
    <origin
      xyz="0.10841 0 0.09"
      rpy="3.1416 0 -3.1416" />
    <parent
      link="Torso" />
    <child
      link="RTorso" />
    <axis
      xyz="0 1 0" />
    <limit
      lower="0"
      upper="0.88"
      effort="0"
      velocity="0" />
  </joint>
  <link
    name="RShoulder">
    <inertial>
      <origin
        xyz="-2.22044604925031E-16 0.0630498866526663 -3.46944695195361E-18"
        rpy="0 0 0" />
      <mass
        value="0.175328671502516" />
      <inertia
        ixx="0.00024755425271954"
        ixy="8.75580987271659E-21"
        ixz="-2.6440960235002E-20"
        iyy="6.56937608813347E-05"
        iyz="-1.98000778885119E-20"
        izz="0.00022589138848891" />
    </inertial>
    <visual>
      <origin
        xyz="0 0 0"
        rpy="0 0 0" />
      <geometry>
        <mesh
          filename="package://valter/meshes/RShoulder.STL" />
      </geometry>
      <material
        name="">
        <color
          rgba="0.792156862745098 0.819607843137255 0.933333333333333 1" />
      </material>
    </visual>
    <collision>
      <origin
        xyz="0 0 0"
        rpy="0 0 0" />
      <geometry>
        <mesh
          filename="package://valter/meshes/RShoulder.STL" />
      </geometry>
    </collision>
  </link>
  <joint
    name="RShoulderJoint"
    type="revolute">
    <origin
      xyz="0.1085 0.31956 -0.067"
      rpy="-1.5708 0 1.5708" />
    <parent
      link="RTorso" />
    <child
      link="RShoulder" />
    <axis
      xyz="0 1 0" />
    <limit
      lower="-0.5"
      upper="1.5"
      effort="0"
      velocity="0" />
  </joint>
  <link
    name="RArm">
    <inertial>
      <origin
        xyz="-1.72695191480443E-13 -0.193246670700552 5.20417042793042E-18"
        rpy="0 0 0" />
      <mass
        value="0.244790015736889" />
      <inertia
        ixx="0.0034720286835471"
        ixy="3.07467262233252E-15"
        ixz="-5.25152757513477E-22"
        iyy="3.01861230030172E-05"
        iyz="2.12110647006146E-20"
        izz="0.00348781472034765" />
    </inertial>
    <visual>
      <origin
        xyz="0 0 0"
        rpy="0 0 0" />
      <geometry>
        <mesh
          filename="package://valter/meshes/RArm.STL" />
      </geometry>
      <material
        name="">
        <color
          rgba="0.792156862745098 0.819607843137255 0.933333333333333 1" />
      </material>
    </visual>
    <collision>
      <origin
        xyz="0 0 0"
        rpy="0 0 0" />
      <geometry>
        <mesh
          filename="package://valter/meshes/RArm.STL" />
      </geometry>
    </collision>
  </link>
  <joint
    name="RArmJoint"
    type="revolute">
    <origin
      xyz="0 0.116 0"
      rpy="-3.1416 1.3305E-19 1.5709" />
    <parent
      link="RShoulder" />
    <child
      link="RArm" />
    <axis
      xyz="0 0 1" />
    <limit
      lower="0"
      upper="1.5"
      effort="0"
      velocity="0" />
  </joint>
  <link
    name="RArmElbow">
    <inertial>
      <origin
        xyz="-0.0211862096312081 1.82145964977565E-16 -3.33066907387547E-16"
        rpy="0 0 0" />
      <mass
        value="0.0397123450849928" />
      <inertia
        ixx="3.18965617916288E-05"
        ixy="-3.07426310164862E-20"
        ixz="5.52949559976385E-21"
        iyy="2.18422007810782E-05"
        iyz="6.4433688573145E-21"
        izz="1.34391771581529E-05" />
    </inertial>
    <visual>
      <origin
        xyz="0 0 0"
        rpy="0 0 0" />
      <geometry>
        <mesh
          filename="package://valter/meshes/RArmElbow.STL" />
      </geometry>
      <material
        name="">
        <color
          rgba="0.796078431372549 0.823529411764706 0.937254901960784 1" />
      </material>
    </visual>
    <collision>
      <origin
        xyz="0 0 0"
        rpy="0 0 0" />
      <geometry>
        <mesh
          filename="package://valter/meshes/RArmElbow.STL" />
      </geometry>
    </collision>
  </link>
  <joint
    name="RArmElbowJoint"
    type="revolute">
    <origin
      xyz="0 -0.39975 0"
      rpy="1.5708 8.6736E-16 1.5708" />
    <parent
      link="RArm" />
    <child
      link="RArmElbow" />
    <axis
      xyz="0 0 1" />
    <limit
      lower="-0.9"
      upper="0.9"
      effort="0"
      velocity="0" />
  </joint>
  <link
    name="RForearmYaw">
    <inertial>
      <origin
        xyz="-3.586E-14 -0.049084 0.00379"
        rpy="0 0 0" />
      <mass
        value="0.60265" />
      <inertia
        ixx="0.0007473"
        ixy="8.6808E-17"
        ixz="-1.4143E-18"
        iyy="0.00062925"
        iyz="-9.4851E-07"
        izz="0.00084031" />
    </inertial>
    <visual>
      <origin
        xyz="0 0 0"
        rpy="0 0 0" />
      <geometry>
        <mesh
          filename="package://valter/meshes/RForearmYaw.STL" />
      </geometry>
      <material
        name="">
        <color
          rgba="0.3 0.3 0.3 1" />
      </material>
    </visual>
    <collision>
      <origin
        xyz="0 0 0"
        rpy="0 0 0" />
      <geometry>
        <mesh
          filename="package://valter/meshes/RForearmYaw.STL" />
      </geometry>
    </collision>
  </link>
  <joint
    name="RForearmYawJoint"
    type="fixed">
    <origin
      xyz="-0.035987 0 0"
      rpy="4.0616E-07 1.5708 -1.5708" />
    <parent
      link="RArmElbow" />
    <child
      link="RForearmYaw" />
    <axis
      xyz="0 -1 0" />
    <limit
      lower="-0.4"
      upper="0.1"
      effort="0"
      velocity="0" />
  </joint>
  <link
    name="RForearmRoll">
    <inertial>
      <origin
        xyz="-0.111710507444709 -0.000515769808357547 -2.01533796595488E-07"
        rpy="0 0 0" />
      <mass
        value="0.935014762710249" />
      <inertia
        ixx="0.000763936847843622"
        ixy="1.34977759991252E-06"
        ixz="5.90476160988418E-09"
        iyy="0.00442640411973197"
        iyz="2.43509505948216E-12"
        izz="0.00403695569884622" />
    </inertial>
    <visual>
      <origin
        xyz="0 0 0"
        rpy="0 0 0" />
      <geometry>
        <mesh
          filename="package://valter/meshes/RForearmRoll.STL" />
      </geometry>
      <material
        name="">
        <color
          rgba="0.792156862745098 0.819607843137255 0.933333333333333 1" />
      </material>
    </visual>
    <collision>
      <origin
        xyz="0 0 0"
        rpy="0 0 0" />
      <geometry>
        <mesh
          filename="package://valter/meshes/RForearmRoll.STL" />
      </geometry>
    </collision>
  </link>
  <joint
    name="RForearmRollJoint"
    type="revolute">
    <origin
      xyz="0 -0.055013 0.0395"
      rpy="3.1414 1.5708 3.1416" />
    <parent
      link="RForearmYaw" />
    <child
      link="RForearmRoll" />
    <axis
      xyz="1 0 0" />
    <limit
      lower="0"
      upper="3.7"
      effort="0"
      velocity="0" />
  </joint>
  <link
    name="RHandPitch">
    <inertial>
      <origin
        xyz="-1.32032809797011E-05 -0.00026825864092217 -0.0100717541970821"
        rpy="0 0 0" />
      <mass
        value="0.00619418148435421" />
      <inertia
        ixx="4.41904034445262E-07"
        ixy="-1.49325590802666E-12"
        ixz="4.62856822490332E-10"
        iyy="7.29536858804215E-07"
        iyz="-1.13908856379463E-09"
        izz="4.5862417558374E-07" />
    </inertial>
    <visual>
      <origin
        xyz="0 0 0"
        rpy="0 0 0" />
      <geometry>
        <mesh
          filename="package://valter/meshes/RHandPitch.STL" />
      </geometry>
      <material
        name="">
        <color
          rgba="0.796078431372549 0.823529411764706 0.937254901960784 1" />
      </material>
    </visual>
    <collision>
      <origin
        xyz="0 0 0"
        rpy="0 0 0" />
      <geometry>
        <mesh
          filename="package://valter/meshes/RHandPitch.STL" />
      </geometry>
    </collision>
  </link>
  <joint
    name="RHandPitchJoint"
    type="fixed">
    <origin
      xyz="-0.23422 -0.005 0"
      rpy="-0.00030678 1.5708 1.9045E-08" />
    <parent
      link="RForearmRoll" />
    <child
      link="RHandPitch" />
    <axis
      xyz="-1 0 0" />
    <limit
      lower="-0.3"
      upper="0.5"
      effort="0"
      velocity="0" />
  </joint>
  <link
    name="RHandYaw">
    <inertial>
      <origin
        xyz="0.0496641940766524 0.000417827618507838 -2.84577250653228E-09"
        rpy="0 0 0" />
      <mass
        value="0.312277803709901" />
      <inertia
        ixx="0.000301787624881611"
        ixy="-4.04907456874447E-06"
        ixz="4.60862963863986E-12"
        iyy="0.000418103664635668"
        iyz="1.89820845266711E-13"
        izz="0.000203953310852931" />
    </inertial>
    <visual>
      <origin
        xyz="0 0 0"
        rpy="0 0 0" />
      <geometry>
        <mesh
          filename="package://valter/meshes/RHandYaw.STL" />
      </geometry>
      <material
        name="">
        <color
          rgba="0.796078431372549 0.823529411764706 0.937254901960784 1" />
      </material>
    </visual>
    <collision>
      <origin
        xyz="0 0 0"
        rpy="0 0 0" />
      <geometry>
        <mesh
          filename="package://valter/meshes/RHandYaw.STL" />
      </geometry>
    </collision>
  </link>
  <joint
    name="RHandYawJoint"
    type="fixed">
    <origin
      xyz="0.0002314 0 -0.015731"
      rpy="3.1416 1.5708 3.1416" />
    <parent
      link="RHandPitch" />
    <child
      link="RHandYaw" />
    <axis
      xyz="0 -1 0" />
    <limit
      lower="-0.2"
      upper="0.5"
      effort="0"
      velocity="0" />
  </joint>
  <link
    name="RFinger0">
    <inertial>
      <origin
        xyz="0.0387329517739757 0.0115334888203411 -0.00999999560888332"
        rpy="0 0 0" />
      <mass
        value="0.02336143148626" />
      <inertia
        ixx="5.4482497346725E-06"
        ixy="5.88137120352321E-06"
        ixz="6.08333179395932E-21"
        iyy="1.21122746789668E-05"
        iyz="5.3146354356532E-21"
        izz="1.60030956478886E-05" />
    </inertial>
    <visual>
      <origin
        xyz="0 0 0"
        rpy="0 0 0" />
      <geometry>
        <mesh
          filename="package://valter/meshes/RFinger0.STL" />
      </geometry>
      <material
        name="">
        <color
          rgba="0.792156862745098 0.819607843137255 0.933333333333333 1" />
      </material>
    </visual>
    <collision>
      <origin
        xyz="0 0 0"
        rpy="0 0 0" />
      <geometry>
        <mesh
          filename="package://valter/meshes/RFinger0.STL" />
      </geometry>
    </collision>
  </link>
  <joint
    name="RFinger0Joint"
    type="revolute">
    <origin
      xyz="0.01463 0.0125 0.025"
      rpy="-3.1416 -3.3278E-08 2.3562" />
    <parent
      link="RHandYaw" />
    <child
      link="RFinger0" />
    <axis
      xyz="0 0 1" />
    <limit
      lower="0"
      upper="1"
      effort="0"
      velocity="0" />
  </joint>
  <link
    name="RFinger1">
    <inertial>
      <origin
        xyz="0.0387329513032653 0.0115334888206206 0.00999999994036582"
        rpy="0 0 0" />
      <mass
        value="0.02336143148626" />
      <inertia
        ixx="5.44824973475746E-06"
        ixy="5.88137120357133E-06"
        ixz="4.9673969256437E-13"
        iyy="1.21122746788819E-05"
        iyz="2.76793288826578E-13"
        izz="1.60030956478886E-05" />
    </inertial>
    <visual>
      <origin
        xyz="0 0 0"
        rpy="0 0 0" />
      <geometry>
        <mesh
          filename="package://valter/meshes/RFinger1.STL" />
      </geometry>
      <material
        name="">
        <color
          rgba="0.792156862745098 0.819607843137255 0.933333333333333 1" />
      </material>
    </visual>
    <collision>
      <origin
        xyz="0 0 0"
        rpy="0 0 0" />
      <geometry>
        <mesh
          filename="package://valter/meshes/RFinger1.STL" />
      </geometry>
    </collision>
  </link>
  <joint
    name="RFinger1Joint"
    type="revolute">
    <origin
      xyz="0.08863 0.0135 0.02375"
      rpy="1.4439E-11 9.4125E-08 0.0003068" />
    <parent
      link="RHandYaw" />
    <child
      link="RFinger1" />
    <axis
      xyz="0 0 -1" />
    <limit
      lower="-1"
      upper="0"
      effort="0"
      velocity="0" />
  </joint>
  <link
    name="RFinger2">
    <inertial>
      <origin
        xyz="0.0387329513032652 0.0115334888206207 0.00999999994036582"
        rpy="0 0 0" />
      <mass
        value="0.02336143148626" />
      <inertia
        ixx="5.44824973475746E-06"
        ixy="5.88137120357133E-06"
        ixz="4.96739695822635E-13"
        iyy="1.21122746788819E-05"
        iyz="2.76793293032378E-13"
        izz="1.60030956478886E-05" />
    </inertial>
    <visual>
      <origin
        xyz="0 0 0"
        rpy="0 0 0" />
      <geometry>
        <mesh
          filename="package://valter/meshes/RFinger2.STL" />
      </geometry>
      <material
        name="">
        <color
          rgba="0.792156862745098 0.819607843137255 0.933333333333333 1" />
      </material>
    </visual>
    <collision>
      <origin
        xyz="0 0 0"
        rpy="0 0 0" />
      <geometry>
        <mesh
          filename="package://valter/meshes/RFinger2.STL" />
      </geometry>
    </collision>
  </link>
  <joint
    name="RFinger2Joint"
    type="revolute">
    <origin
      xyz="0.08863 0.0135 0.00125"
      rpy="1.4439E-11 9.4125E-08 0.0003068" />
    <parent
      link="RHandYaw" />
    <child
      link="RFinger2" />
    <axis
      xyz="0 0 -1" />
    <limit
      lower="-1"
      upper="0"
      effort="0"
      velocity="0" />
  </joint>
  <link
    name="RFinger3">
    <inertial>
      <origin
        xyz="0.0387329522445194 0.0115334888206204 -0.00999999629461007"
        rpy="0 0 0" />
      <mass
        value="0.02336143148626" />
      <inertia
        ixx="5.44824973475746E-06"
        ixy="5.88137120357133E-06"
        ixz="4.96739692275684E-13"
        iyy="1.21122746788819E-05"
        iyz="2.76793288704156E-13"
        izz="1.60030956478886E-05" />
    </inertial>
    <visual>
      <origin
        xyz="0 0 0"
        rpy="0 0 0" />
      <geometry>
        <mesh
          filename="package://valter/meshes/RFinger3.STL" />
      </geometry>
      <material
        name="">
        <color
          rgba="0.792156862745098 0.819607843137255 0.933333333333333 1" />
      </material>
    </visual>
    <collision>
      <origin
        xyz="0 0 0"
        rpy="0 0 0" />
      <geometry>
        <mesh
          filename="package://valter/meshes/RFinger3.STL" />
      </geometry>
    </collision>
  </link>
  <joint
    name="RFinger3Joint"
    type="revolute">
    <origin
      xyz="0.08863 0.0135 -0.00125"
      rpy="1.4439E-11 9.4125E-08 0.0003068" />
    <parent
      link="RHandYaw" />
    <child
      link="RFinger3" />
    <axis
      xyz="0 0 -1" />
    <limit
      lower="-1"
      upper="0"
      effort="0"
      velocity="0" />
  </joint>
  <link
    name="RFinger4">
    <inertial>
      <origin
        xyz="0.0387329522445194 0.0115334888206207 -0.00999999629461018"
        rpy="0 0 0" />
      <mass
        value="0.02336143148626" />
      <inertia
        ixx="5.44824973475747E-06"
        ixy="5.88137120357133E-06"
        ixz="4.967396960468E-13"
        iyy="1.21122746788819E-05"
        iyz="2.76793291308741E-13"
        izz="1.60030956478886E-05" />
    </inertial>
    <visual>
      <origin
        xyz="0 0 0"
        rpy="0 0 0" />
      <geometry>
        <mesh
          filename="package://valter/meshes/RFinger4.STL" />
      </geometry>
      <material
        name="">
        <color
          rgba="0.792156862745098 0.819607843137255 0.933333333333333 1" />
      </material>
    </visual>
    <collision>
      <origin
        xyz="0 0 0"
        rpy="0 0 0" />
      <geometry>
        <mesh
          filename="package://valter/meshes/RFinger4.STL" />
      </geometry>
    </collision>
  </link>
  <joint
    name="RFinger4Joint"
    type="revolute">
    <origin
      xyz="0.08863 0.0135 -0.02375"
      rpy="1.4439E-11 9.4125E-08 0.0003068" />
    <parent
      link="RHandYaw" />
    <child
      link="RFinger4" />
    <axis
      xyz="0 0 -1" />
    <limit
      lower="-1"
      upper="0"
      effort="0"
      velocity="0" />
  </joint>
  <link
    name="RFinger5">
    <inertial>
      <origin
        xyz="0.0387329517739756 0.0115334888203409 0.00999999560888332"
        rpy="0 0 0" />
      <mass
        value="0.0233614314862599" />
      <inertia
        ixx="5.44824973467247E-06"
        ixy="5.88137120352318E-06"
        ixz="-1.04370353894188E-20"
        iyy="1.21122746789667E-05"
        iyz="-7.57428607399494E-21"
        izz="1.60030956478885E-05" />
    </inertial>
    <visual>
      <origin
        xyz="0 0 0"
        rpy="0 0 0" />
      <geometry>
        <mesh
          filename="package://valter/meshes/RFinger5.STL" />
      </geometry>
      <material
        name="">
        <color
          rgba="0.792156862745098 0.819607843137255 0.933333333333333 1" />
      </material>
    </visual>
    <collision>
      <origin
        xyz="0 0 0"
        rpy="0 0 0" />
      <geometry>
        <mesh
          filename="package://valter/meshes/RFinger5.STL" />
      </geometry>
    </collision>
  </link>
  <joint
    name="RFinger5Joint"
    type="revolute">
    <origin
      xyz="0.01463 0.0125 -0.025"
      rpy="-3.1416 -3.3278E-08 2.3562" />
    <parent
      link="RHandYaw" />
    <child
      link="RFinger5" />
    <axis
      xyz="0 0 1" />
    <limit
      lower="0"
      upper="1"
      effort="0"
      velocity="0" />
  </joint>
</robot>
